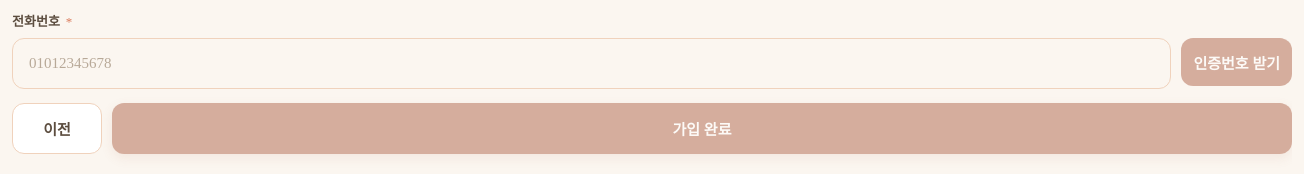
Test: 회원가입 전화번호 (QA AUTH-A57, Chrome) › 하이픈 넣은 번호를 붙여넣어도 숫자 11자리가 온전히 들어간다
The width and height of the screenshot is (1304, 174).
Step 1. Type "010-1234-5678" into the field labelled "전화번호" → (592, 63), box [13,38,1170,88]
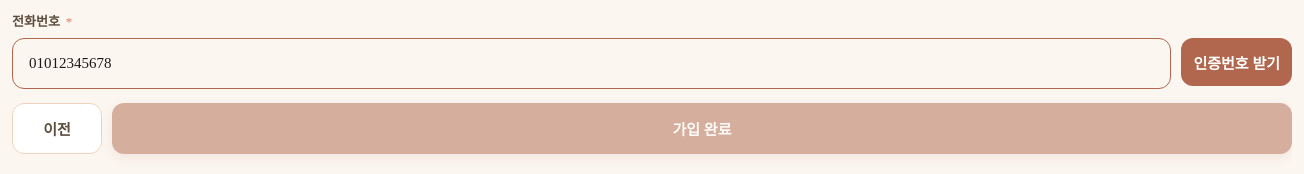
Expected: the field labelled "전화번호" holds "01012345678", [13,38,1170,88]
